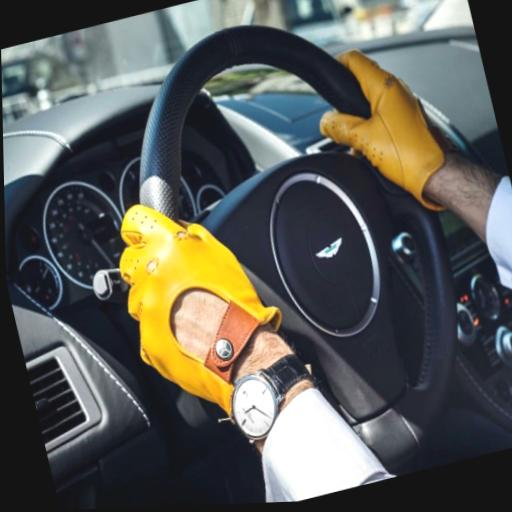Hands-on-the-Wheel: (91, 147, 324, 435), (289, 2, 475, 223)
